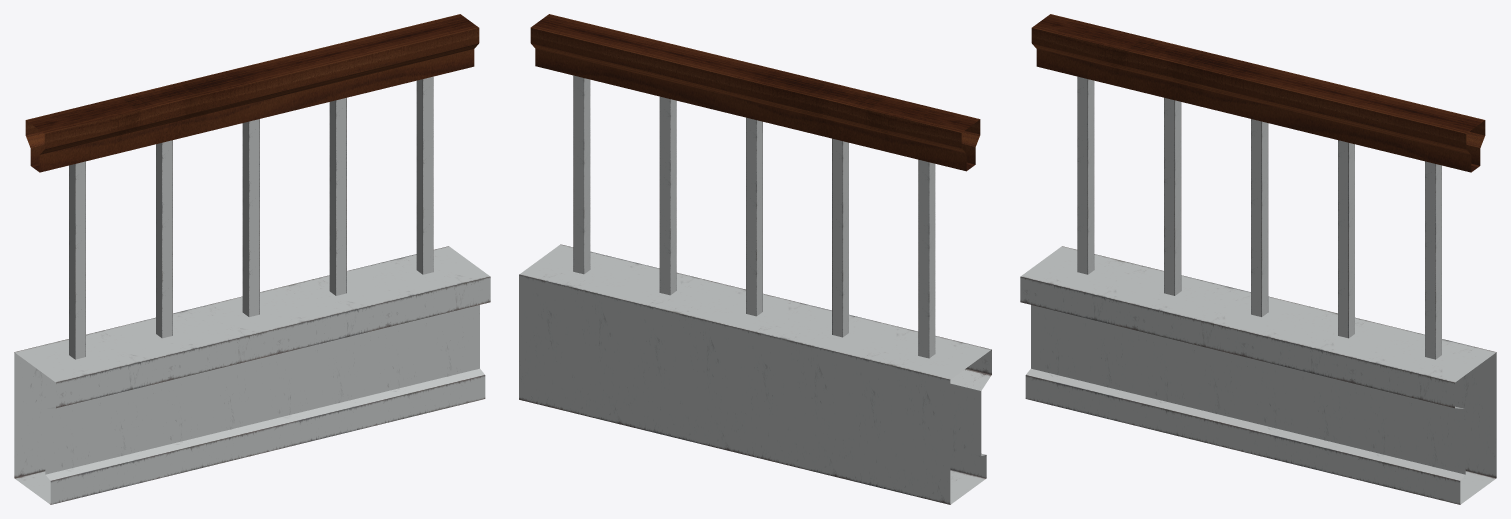
File: stairs_railing_horizontal.fbx
3 renders of one model, left to right at view 1: azimuth 30°, elevation 25°; view 2: azimuth 150°, elevation 25°; view 3: azimuth 330°, elevation 25°, orthographic.
Parts seen in each view (by area): view 1: railing_horizontal; view 2: railing_horizontal; view 3: railing_horizontal.
Part boxes in pixels (box(x1,y1,x2,y2)): railing_horizontal: box(14, 14, 490, 504); railing_horizontal: box(519, 14, 991, 504); railing_horizontal: box(1020, 14, 1496, 504).
Size of the model in its own units: 200 by 161 by 33.3.
1 material, 1 textured.
